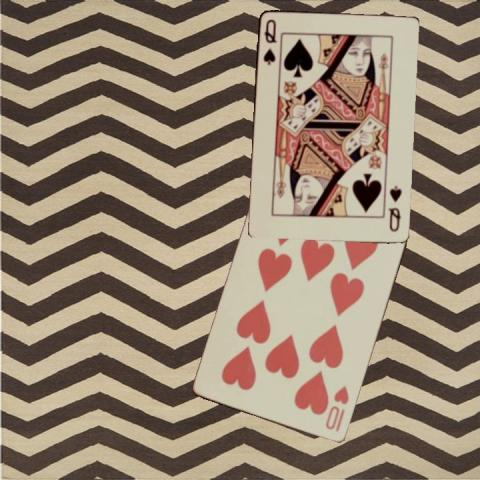10h: (322, 383, 350, 433)
Qs: (260, 16, 278, 67), (385, 183, 403, 233)
